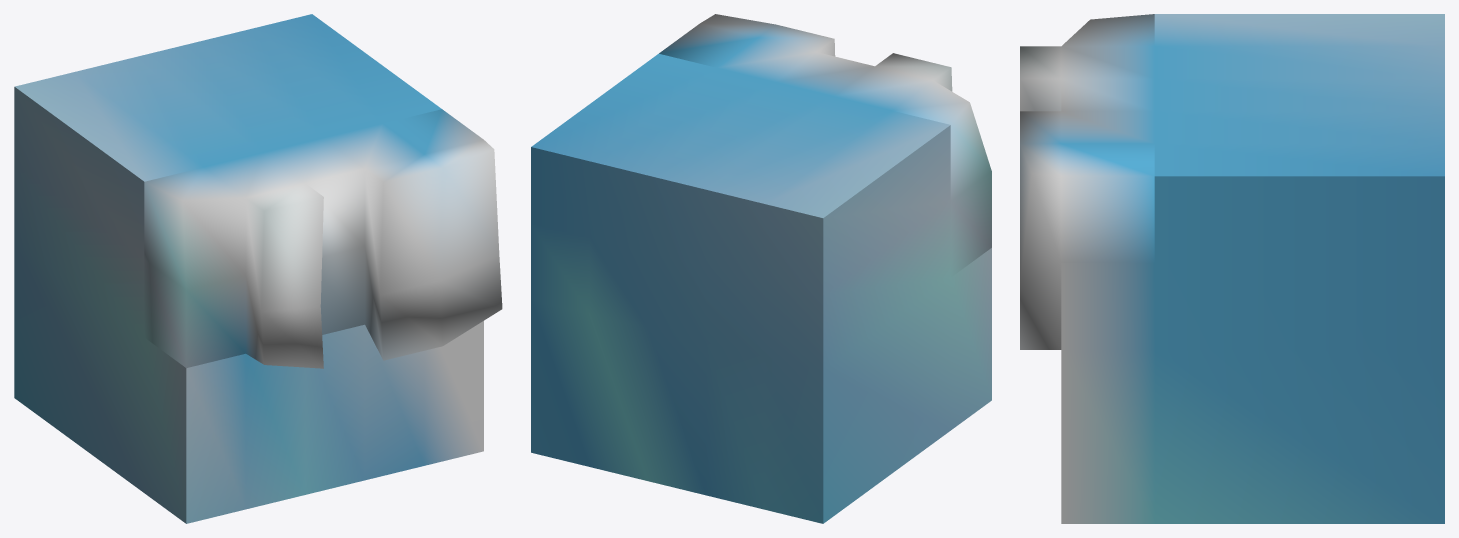
Rendered from Ice.fbx.
3 views of the same model, side by side, from view 1: azimuth 30°, elevation 25°; view 2: azimuth 150°, elevation 25°; view 3: azimuth 270°, elevation 25° (orthographic). The views are drawn at different scales.
Visible parts, largest first — view 1: IceCube; view 2: IceCube; view 3: IceCube.
Part boxes in pixels (x1,y1,x2,y2): IceCube: (14,14,502,523); IceCube: (531,14,991,523); IceCube: (1020,14,1444,523).
Bounding box in the file's own units: 1.64 × 1.64 × 1.81.
